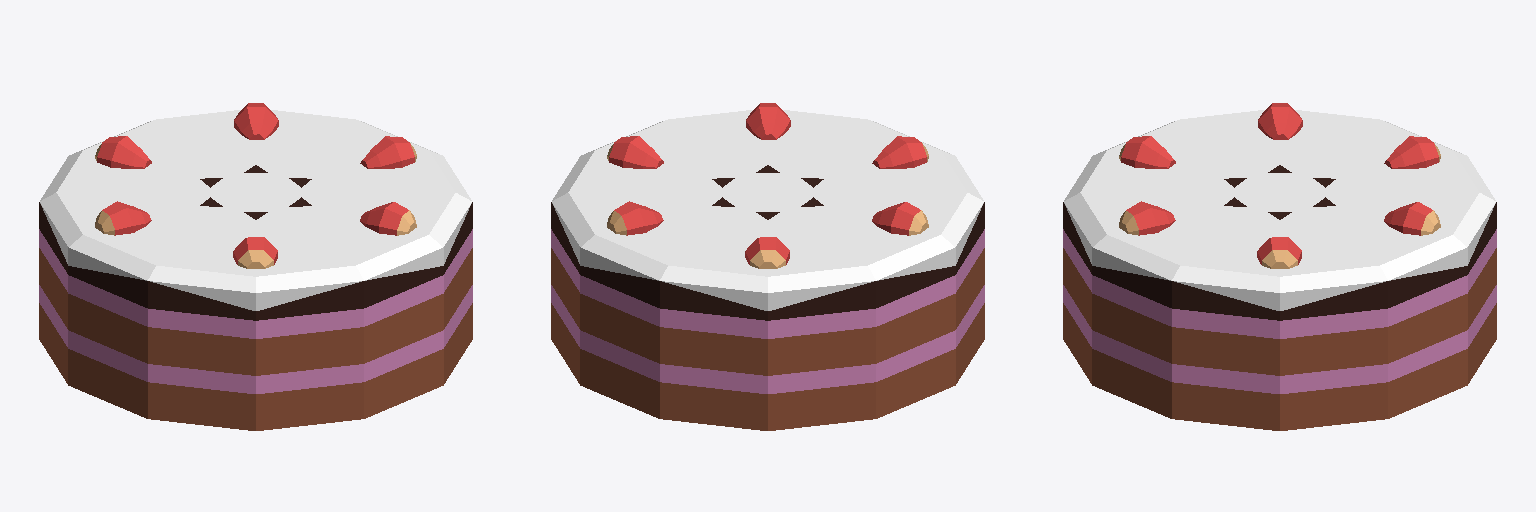
File: cake.obj
3 views of the same model, side by side, from view 1: azimuth 30°, elevation 25°; view 2: azimuth 150°, elevation 25°; view 3: azimuth 270°, elevation 25° (orthographic).
Parts seen in each view (by area): view 1: slice; view 2: slice; view 3: slice.
Boxes of the visible parts, x1=… form: slice: x1=39, y1=103, x2=472, y2=430; slice: x1=551, y1=103, x2=984, y2=430; slice: x1=1063, y1=103, x2=1496, y2=430.
Size of the model in its own units: 0.6392 by 0.2731 by 0.6392.